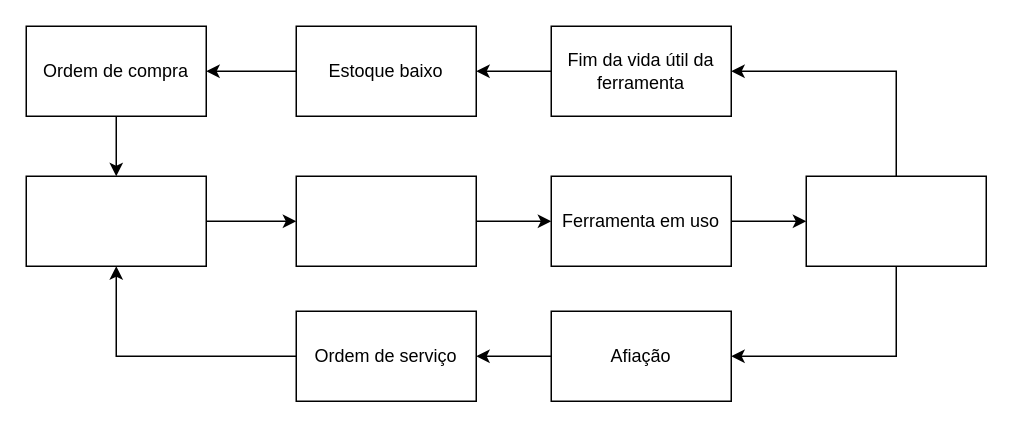
Image size: 1013x428. Some labels were removed from this diagram. The shapes that lost their labels are listed below. From the top down, each one's centre as x and y in pixels, then its label:
At point (115, 220): "Fornecedor".
At point (385, 220): "Entrada no estoque".
At point (895, 220): "Desgaste".
